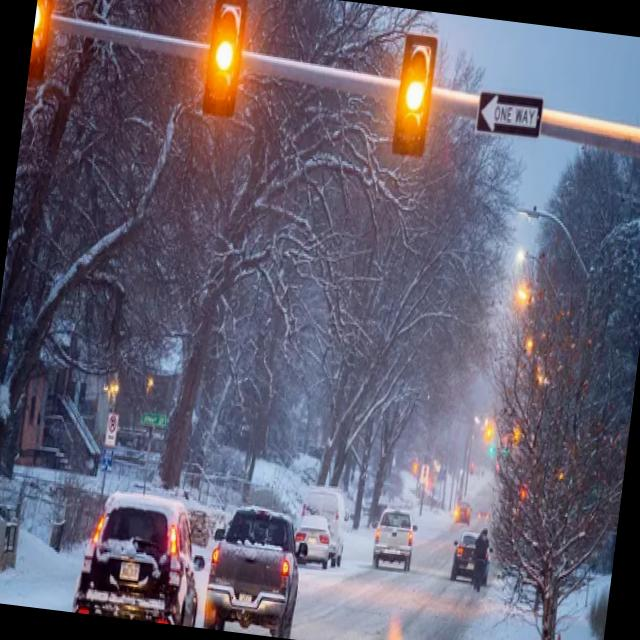Vehicle: (58, 454, 215, 628), (202, 468, 316, 640), (366, 491, 424, 574), (308, 518, 332, 559)
